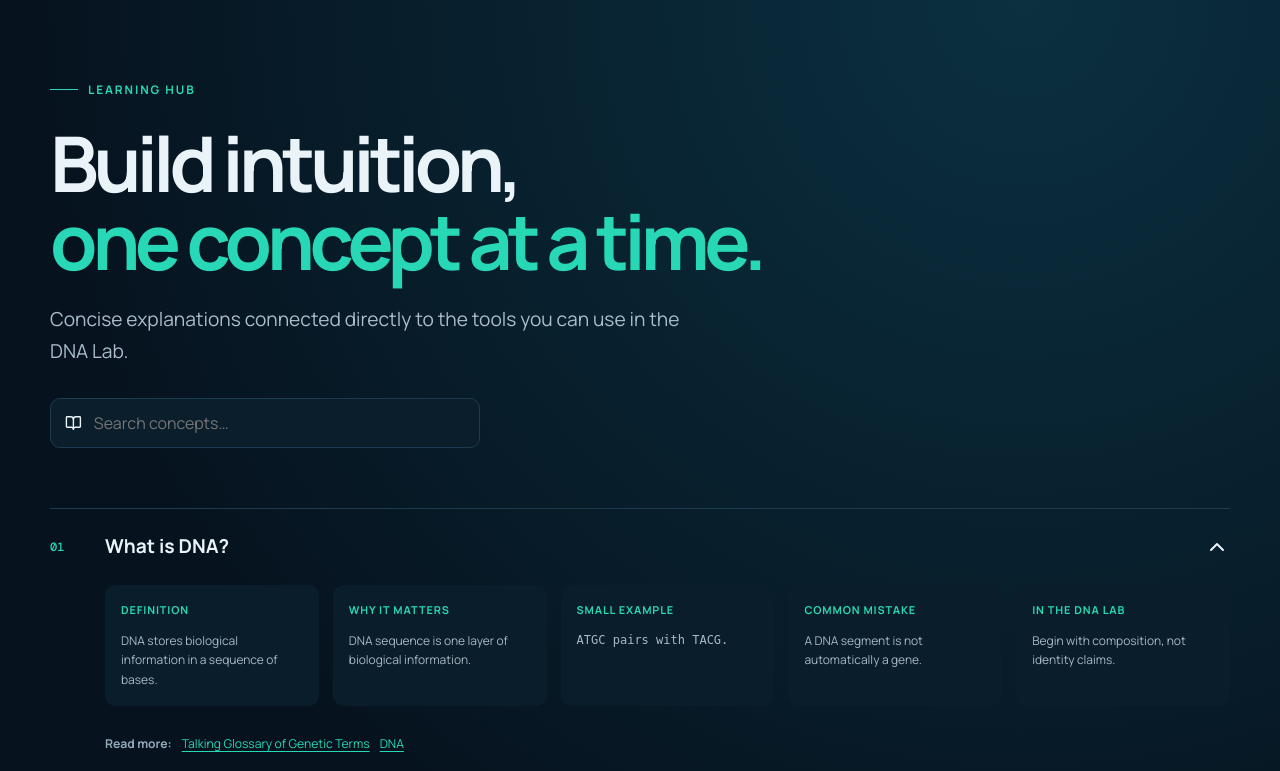
Scenario: keeps Learn search working with the revised module structure
The width and height of the screenshot is (1280, 771).
Type "ambiguity" into the field named "Search learning concepts" at (278, 423), box top-left (92, 408), bottom-right (465, 437)
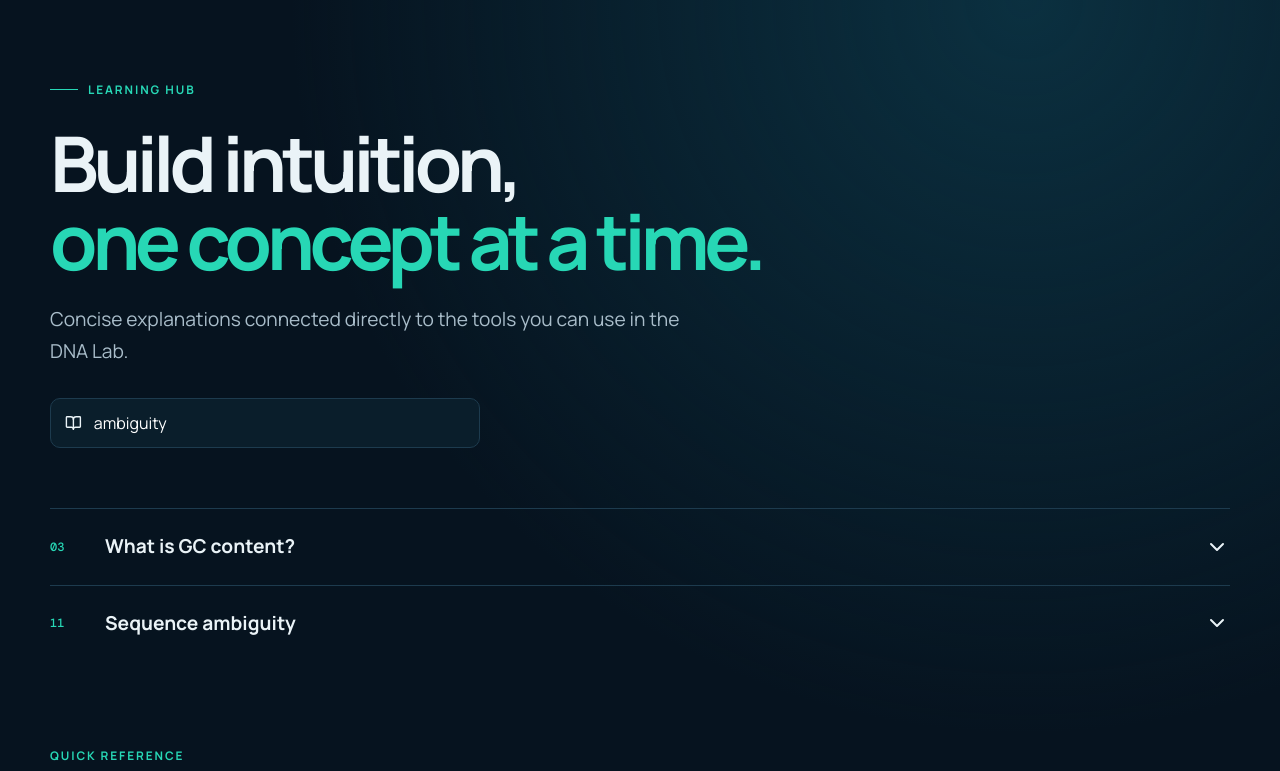
Check: the heading "Sequence ambiguity" is shown, box top-left (105, 610), bottom-right (296, 636)
Check: the heading "What is DNA?" is gone
